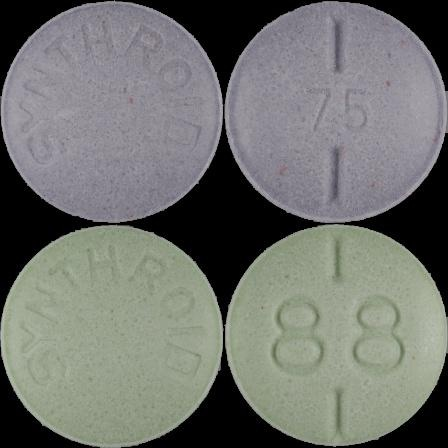66336-341: (0, 0, 224, 224)
